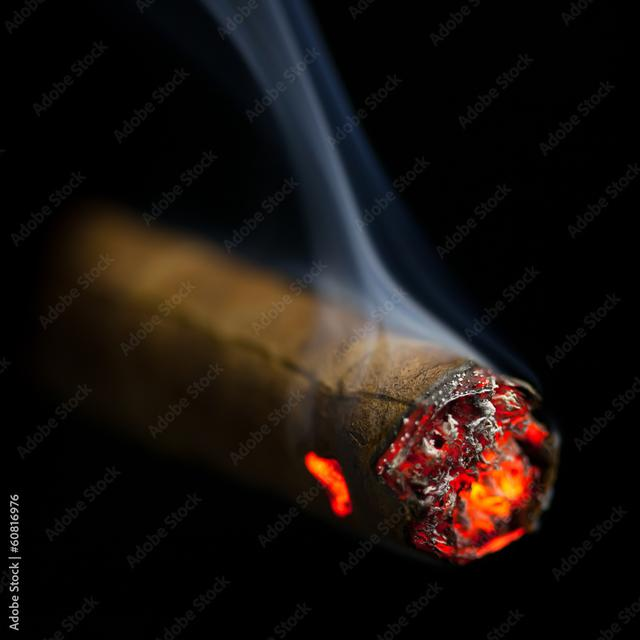Cigar: (34, 203, 561, 566)
